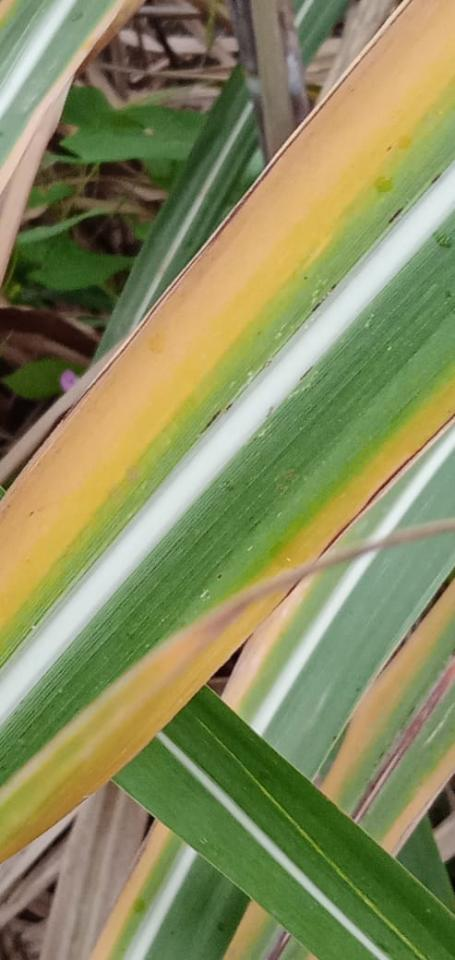Rust: (311, 282, 338, 313), (199, 408, 224, 435), (387, 205, 405, 225), (298, 364, 315, 382), (430, 170, 443, 184), (224, 401, 235, 412), (215, 572, 225, 581), (302, 274, 310, 282), (384, 145, 392, 153), (28, 510, 35, 518)
Yellow: (0, 0, 454, 631), (0, 379, 454, 864)
